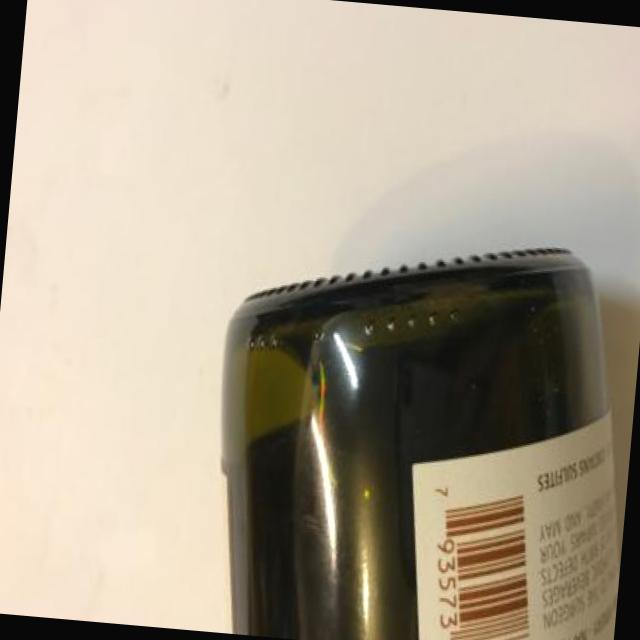chai_thuy_tinh: (222, 249, 619, 640)
